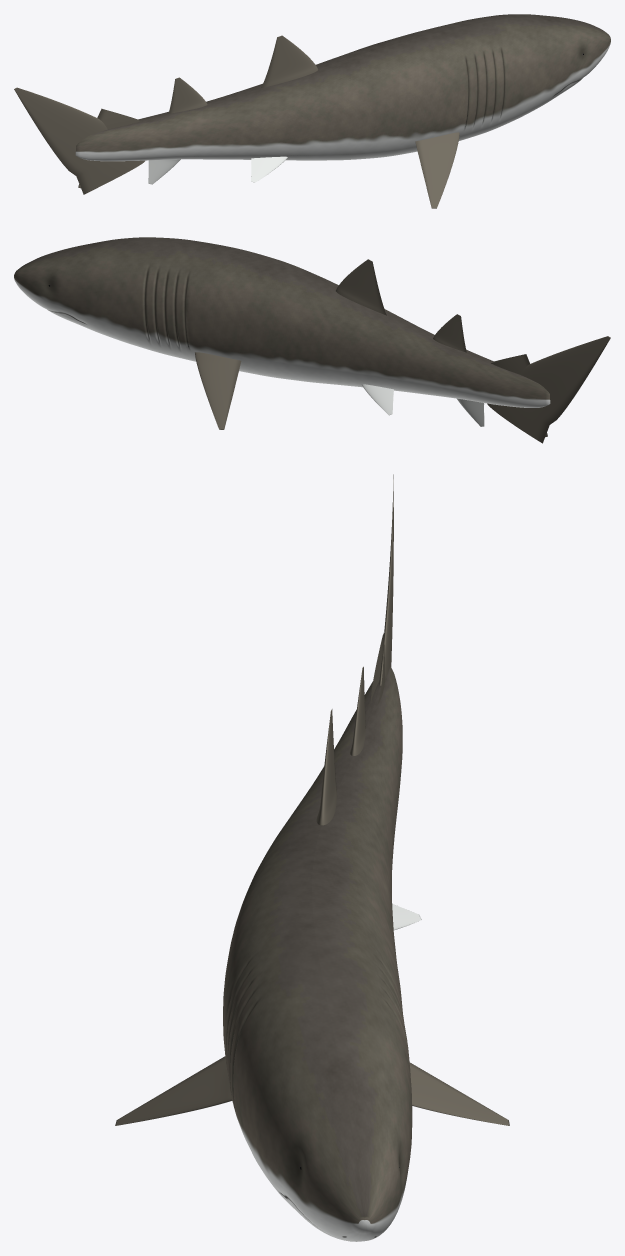
The model's file is sand_tiger_shark.glb.
3 views of the same model, one above another, from view 1: azimuth 30°, elevation 25°; view 2: azimuth 150°, elevation 25°; view 3: azimuth 270°, elevation 25° (orthographic). The views are drawn at different scales.
Visible parts, largest first — view 1: SandTigerShark_Body, SandTigerShark_Fins; view 2: SandTigerShark_Body, SandTigerShark_Fins; view 3: SandTigerShark_Body, SandTigerShark_Fins.
Boxes of the visible parts, x1,y1,x2,y2 form: SandTigerShark_Body: (75, 14, 610, 161); SandTigerShark_Fins: (14, 35, 459, 208); SandTigerShark_Body: (14, 237, 550, 407); SandTigerShark_Fins: (195, 259, 610, 443); SandTigerShark_Body: (223, 667, 412, 1241); SandTigerShark_Fins: (115, 474, 509, 1125).
Size of the model in its own units: 2.5 by 0.6418 by 0.7256.
Materials: 3 (1 with a texture image).
